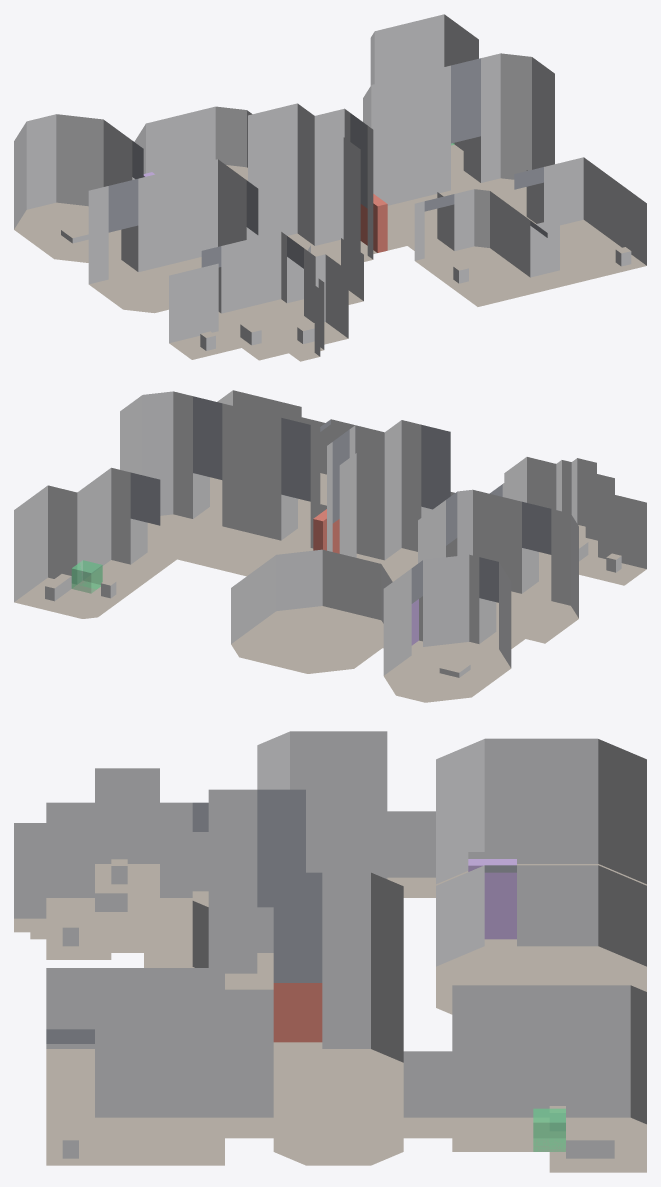
File: deck_03.glb
3 renders of one model, top to bottom at view 1: azimuth 30°, elevation 25°; view 2: azimuth 150°, elevation 25°; view 3: azimuth 270°, elevation 25°, orthographic. The views are drawn at different scales.
Parts seen in each view (by area): view 1: room:3, room:0, room:1, room:2, room:5, room:7, room:6, room:8, room:4, corridor:8, corridor:9, entities (+4 smaller); view 2: room:3, room:4, room:8, room:5, room:2, room:1, room:0, entities, room:7, corridor:3, corridor:5, corridor:0 (+4 smaller); view 3: room:3, room:4, room:0, room:5, room:8, room:2, room:7, room:6, room:1, entities, corridor:3, corridor:6 (+6 smaller).
Boxes of the visible parts, left/top/right/bottom form: room:3: left=363, top=53, right=554, bottom=248; room:0: left=169, top=231, right=348, bottom=361; room:1: left=88, top=159, right=258, bottom=313; room:2: left=248, top=103, right=373, bottom=265; room:5: left=14, top=114, right=143, bottom=262; room:7: left=514, top=157, right=646, bottom=282; room:6: left=414, top=189, right=547, bottom=306; room:8: left=134, top=106, right=252, bottom=180; room:4: left=370, top=14, right=478, bottom=173; corridor:8: left=530, top=218, right=576, bottom=289; corridor:9: left=287, top=238, right=363, bottom=315; entities: left=143, top=143, right=454, bottom=252; room:3: left=120, top=391, right=320, bottom=576; room:4: left=14, top=467, right=160, bottom=618; room:8: left=231, top=549, right=392, bottom=673; room:5: left=383, top=554, right=511, bottom=702; room:2: left=327, top=420, right=450, bottom=581; room:1: left=418, top=489, right=578, bottom=643; room:0: left=489, top=457, right=646, bottom=585; entities: left=71, top=509, right=418, bottom=645; room:7: left=210, top=390, right=301, bottom=509; corridor:3: left=130, top=518, right=176, bottom=571; corridor:5: left=281, top=494, right=310, bottom=547; corridor:0: left=522, top=548, right=551, bottom=600; room:3: left=273, top=872, right=403, bottom=1165; room:4: left=452, top=985, right=646, bottom=1172; room:0: left=14, top=768, right=208, bottom=959; room:5: left=436, top=738, right=646, bottom=885; room:8: left=436, top=865, right=646, bottom=1014; room:2: left=208, top=789, right=387, bottom=989; room:7: left=46, top=1029, right=224, bottom=1165; room:6: left=46, top=968, right=224, bottom=1096; room:1: left=257, top=731, right=387, bottom=789; entities: left=273, top=859, right=565, bottom=1151; corridor:3: left=403, top=1051, right=452, bottom=1138; corridor:6: left=225, top=1051, right=273, bottom=1138.
Size of the model in its own units: 45 by 12.5 by 39.
